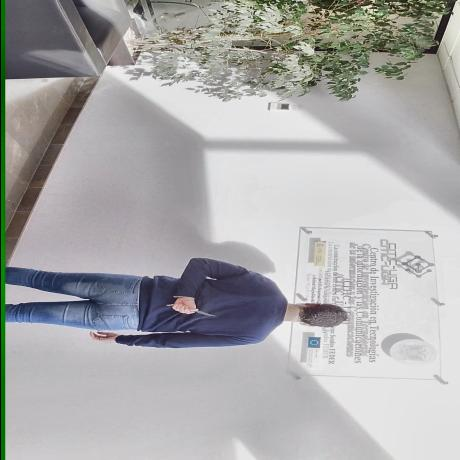1: (0, 254, 345, 348)
weapon: (166, 304, 216, 317)
